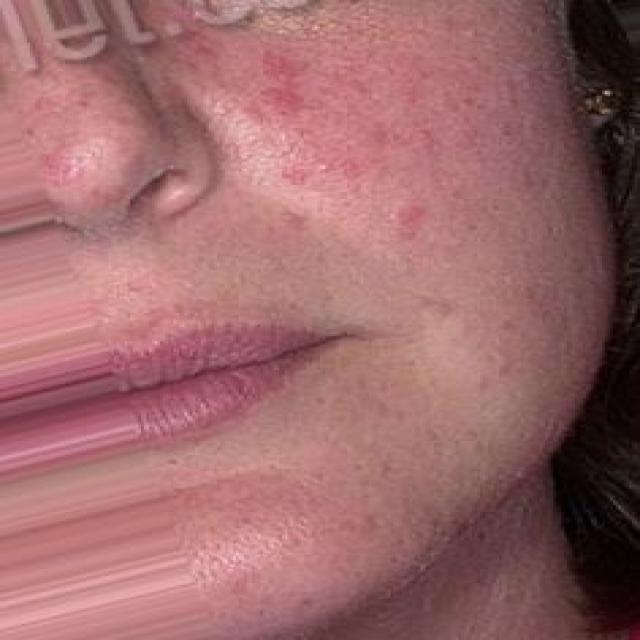Rosacea: (228, 31, 516, 246)
